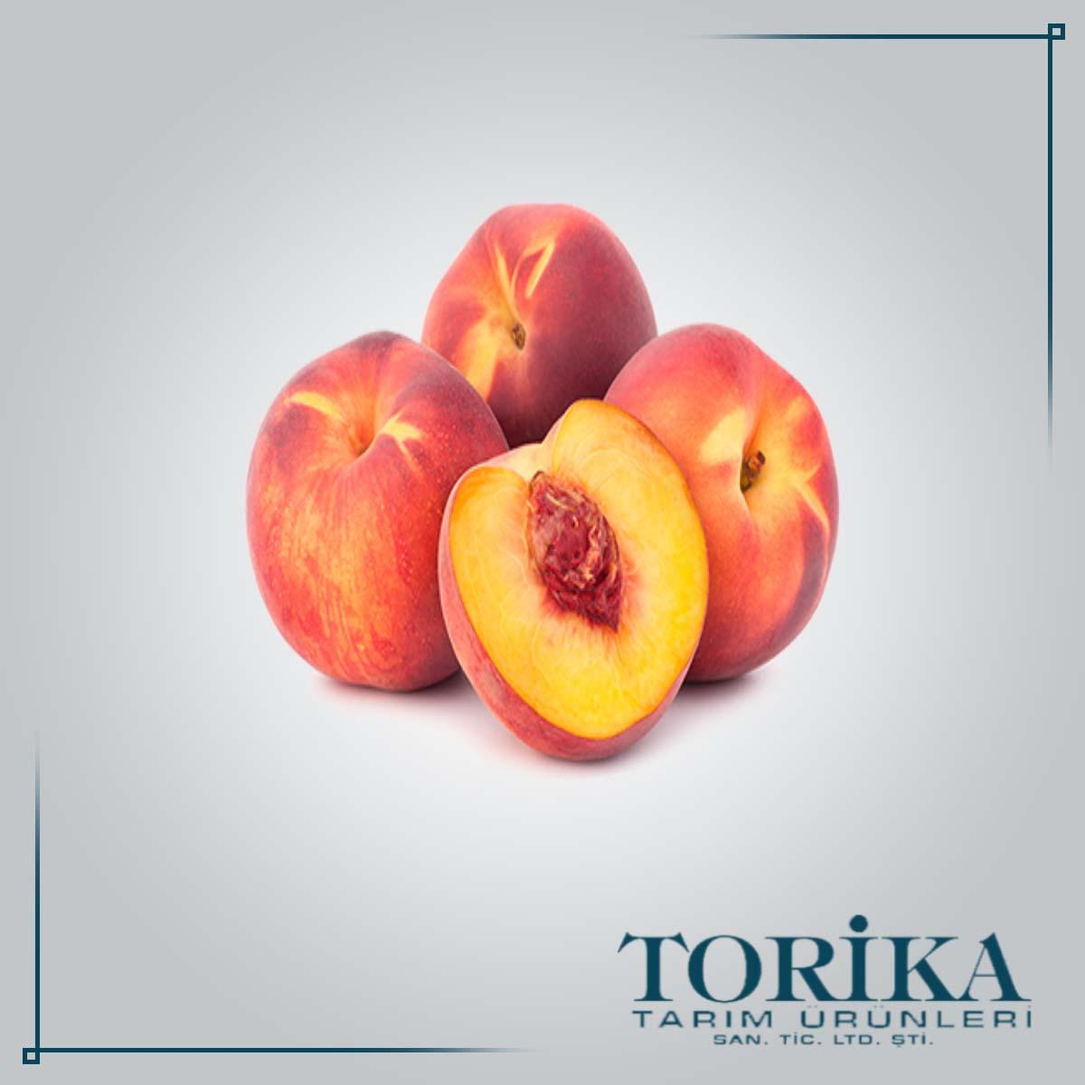Peach Ripe: (247, 332, 507, 692), (606, 325, 838, 683), (423, 203, 656, 443)
